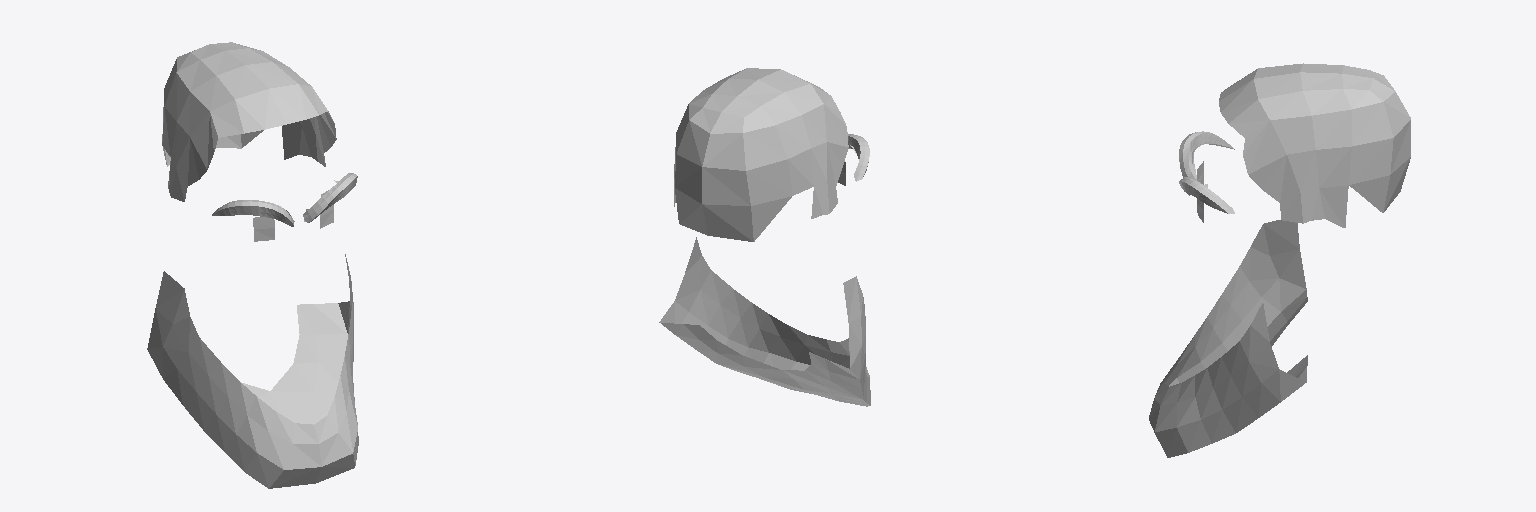
File: hair bron.obj
The picture shows the model from 3 angles: view 1: azimuth 30°, elevation 25°; view 2: azimuth 150°, elevation 25°; view 3: azimuth 270°, elevation 25°; orthographic projection.
Visible parts, largest first — view 1: basketballer_angry_head.001; view 2: basketballer_angry_head.001; view 3: basketballer_angry_head.001.
Part boxes in pixels (x1,y1,x2,y2): basketballer_angry_head.001: (147,42,358,488); basketballer_angry_head.001: (659,68,870,406); basketballer_angry_head.001: (1149,63,1410,457).
Size of the model in its own units: 0.3309 by 0.6083 by 0.3947.